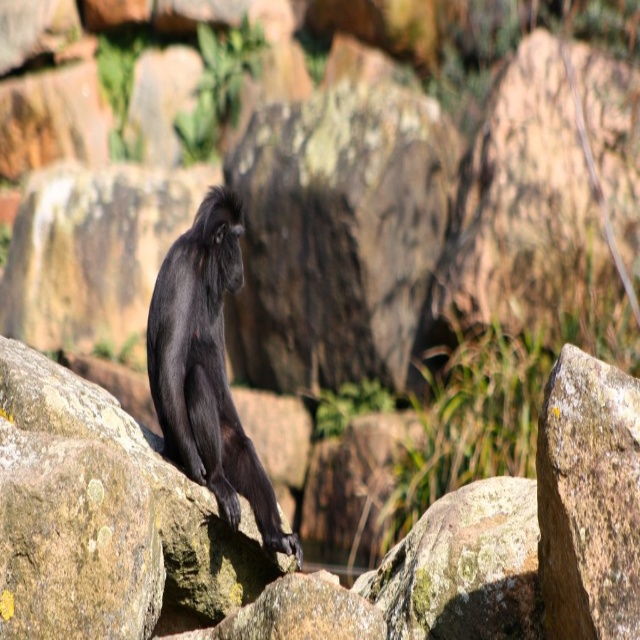Monkey: (148, 183, 303, 569)
